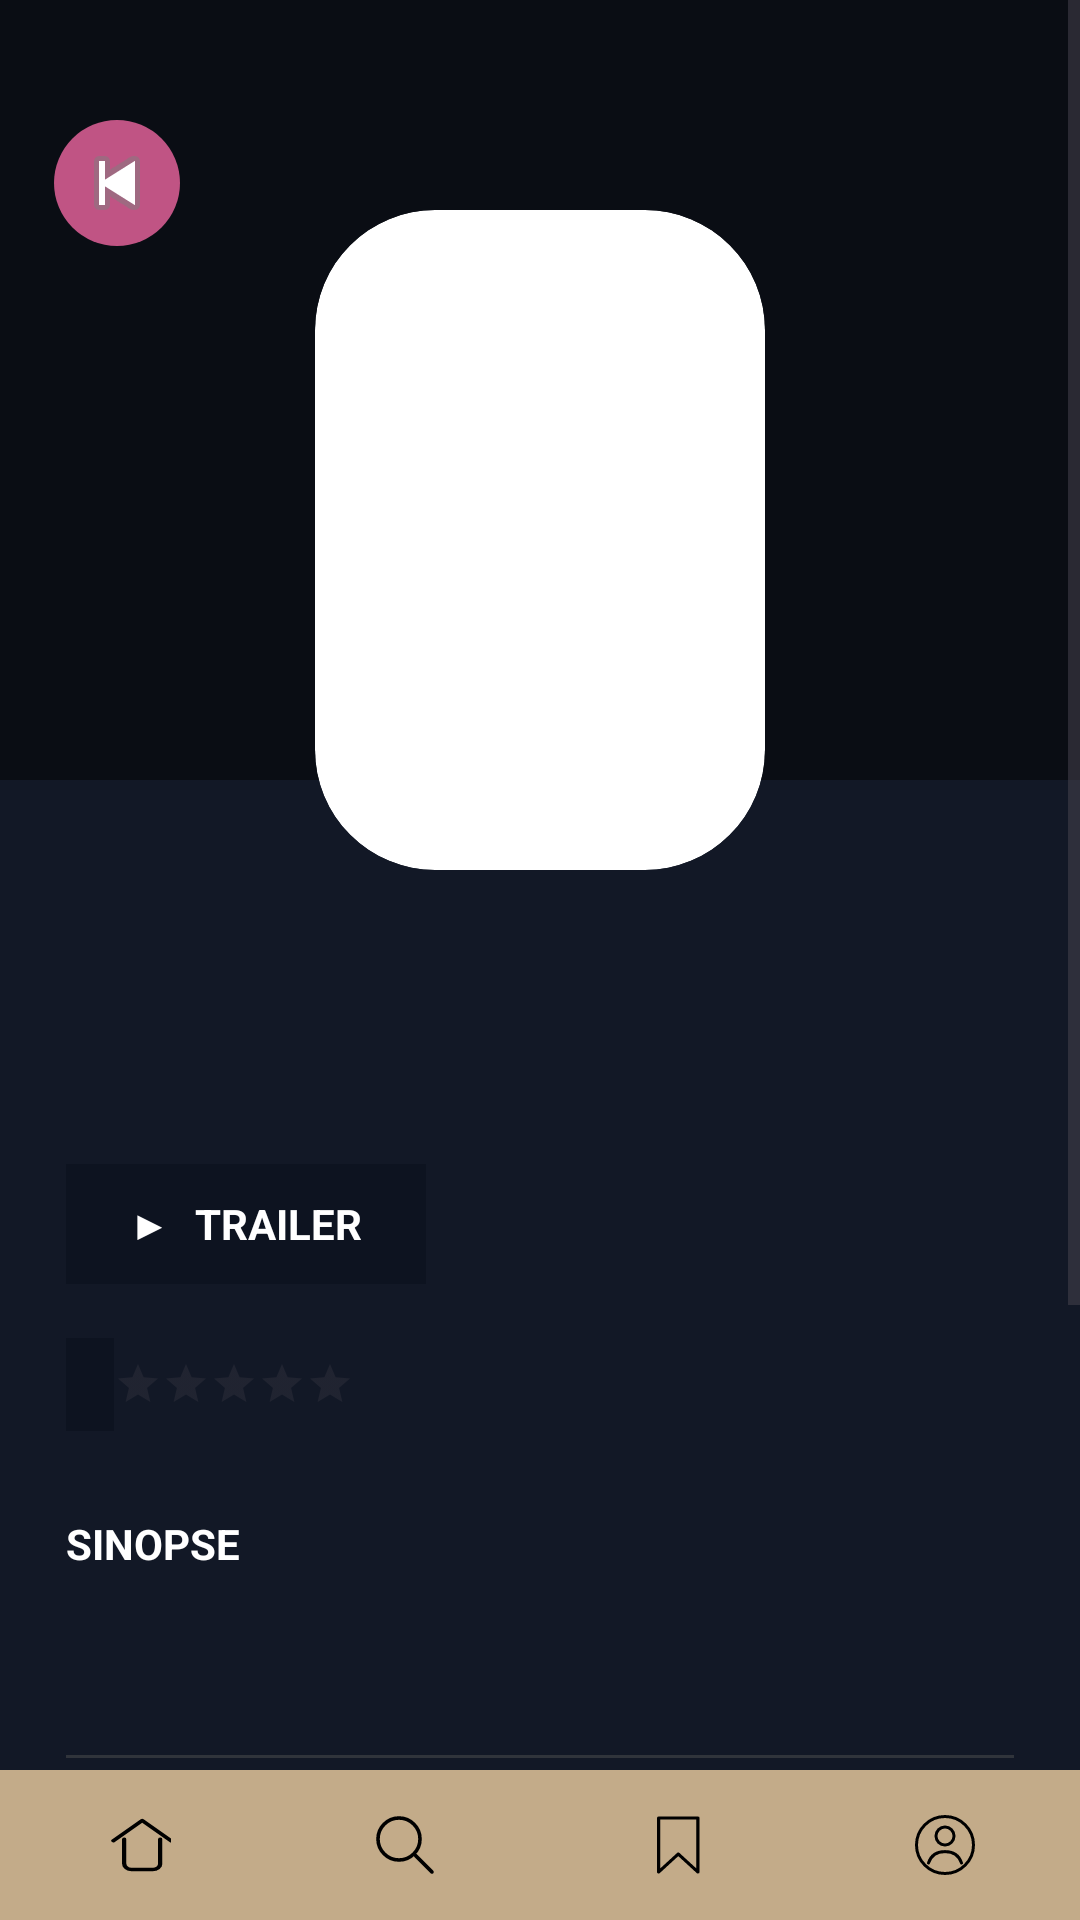

Screen size 1080 × 1920. Icon name, then its box in pixels as {"left": x1, "top": y1, "right": x2, "bottom": y2}:
previous: {"left": 54, "top": 120, "right": 180, "bottom": 246}
